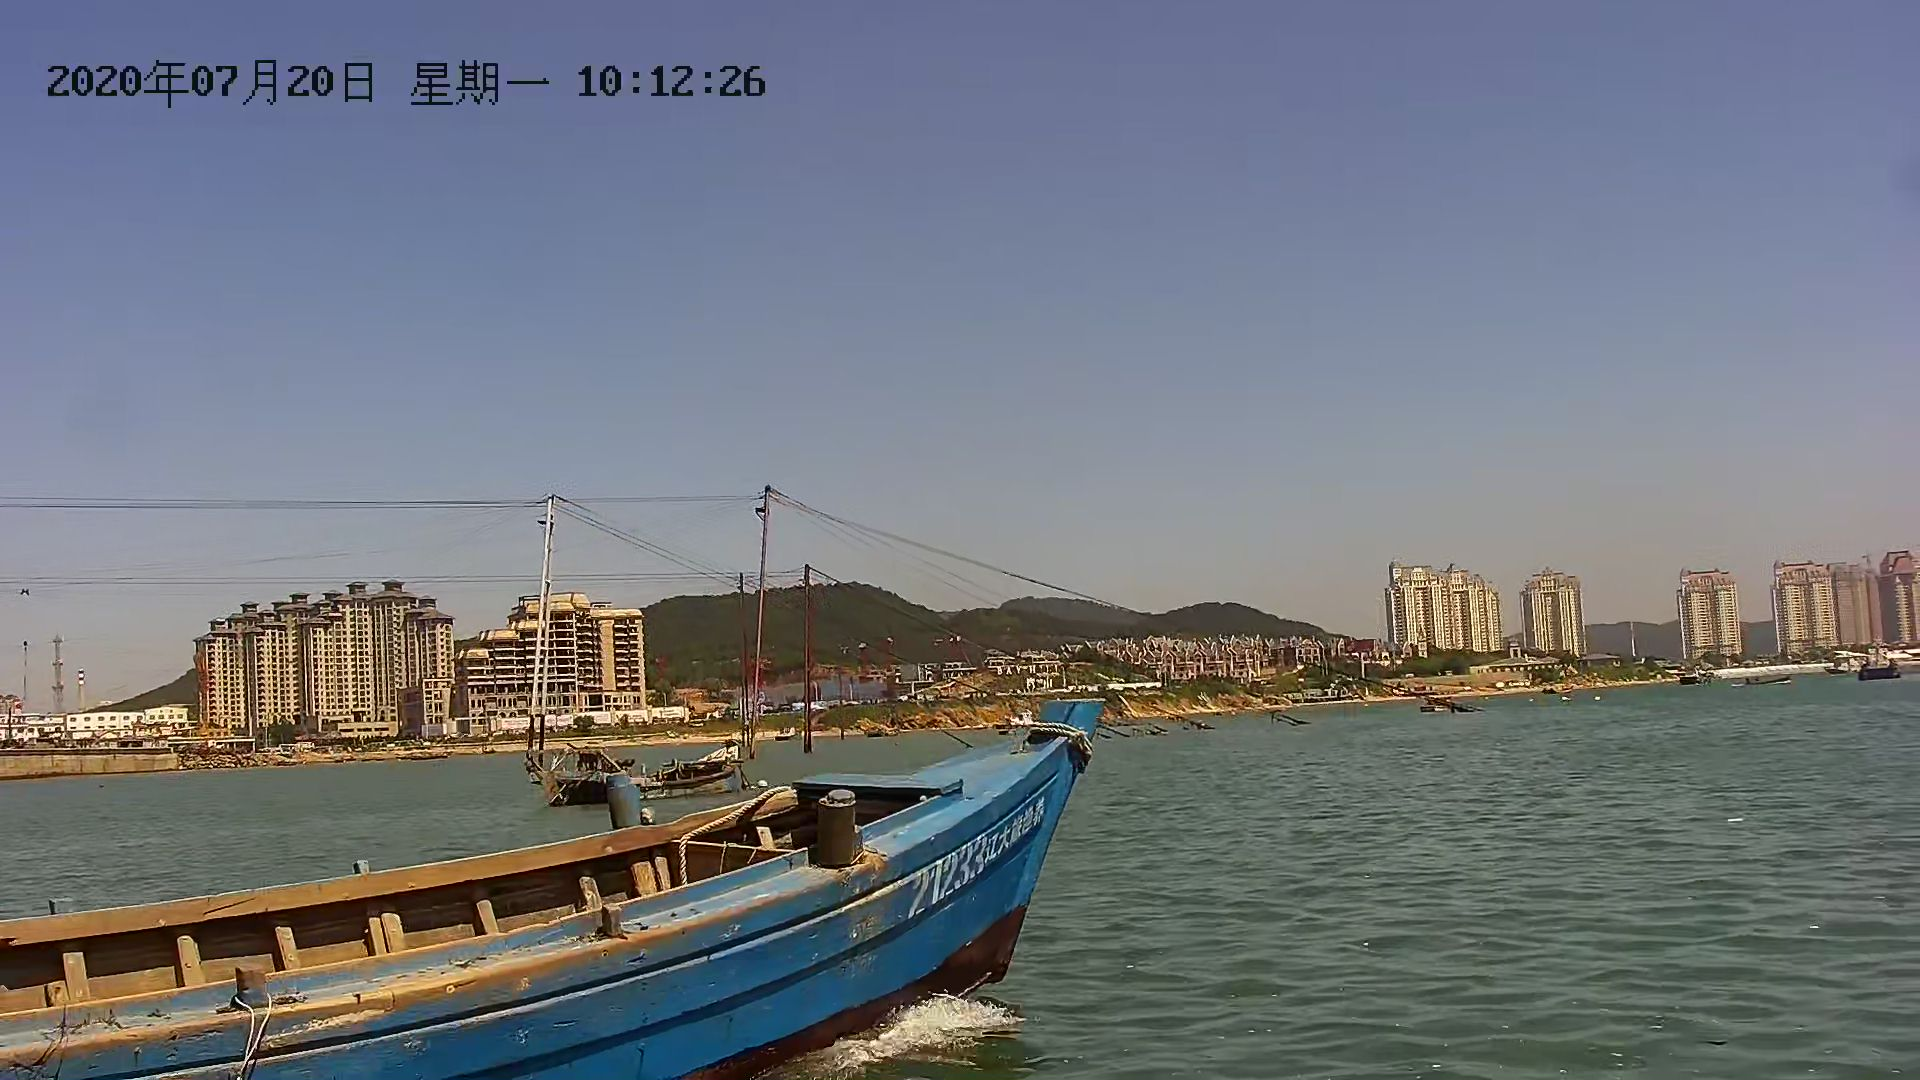boat: (1, 691, 1120, 1075), (545, 742, 745, 796)
mast: (518, 491, 559, 774), (740, 485, 767, 769), (793, 560, 824, 760)
